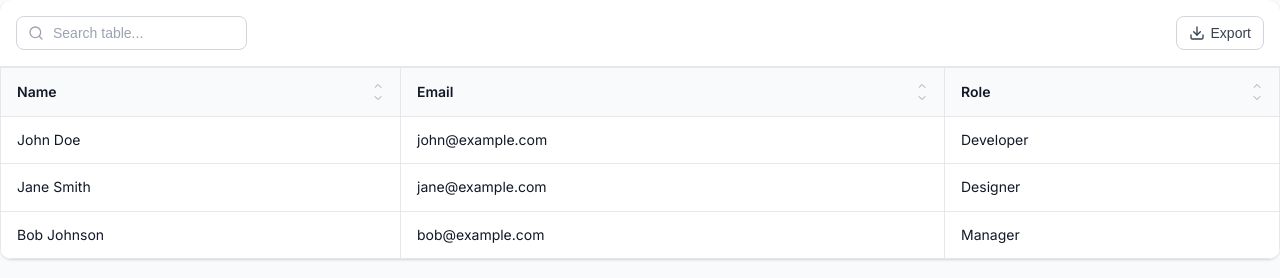
Scenario: DataTable › handles search functionality
Type "Jane" into the field with placeholder "Search table..." at (132, 33), box [16,16,247,50]
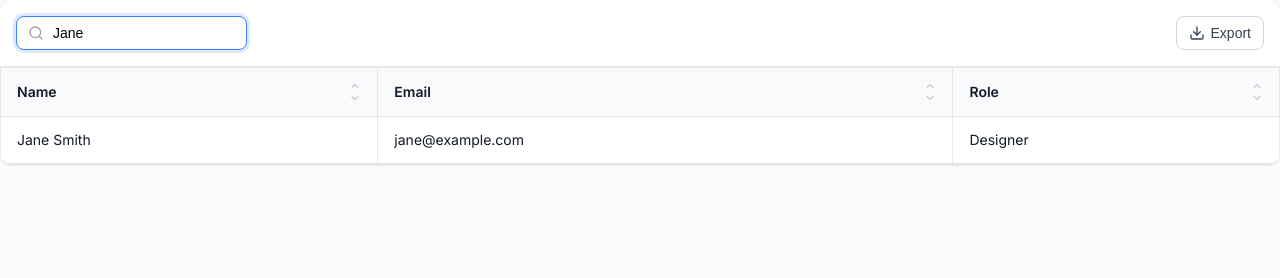
Expected: the text "Jane Smith" is shown, [17,131,91,148]
Result: the text "John Doe" is gone
